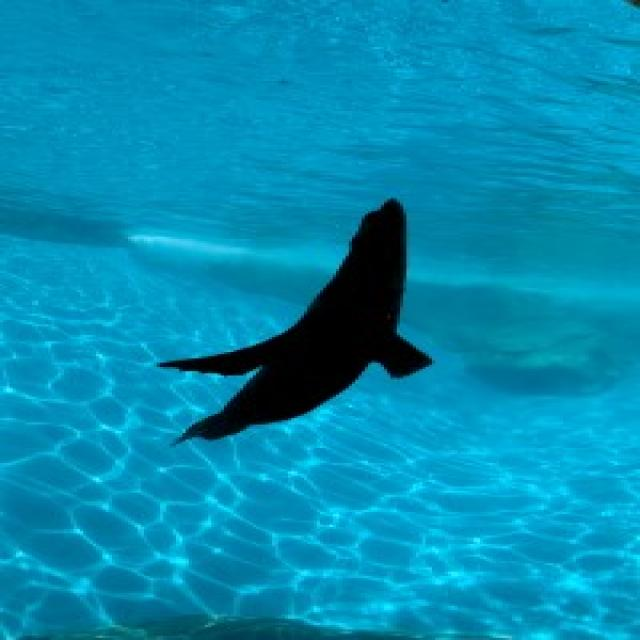Seal: (156, 191, 470, 473)
